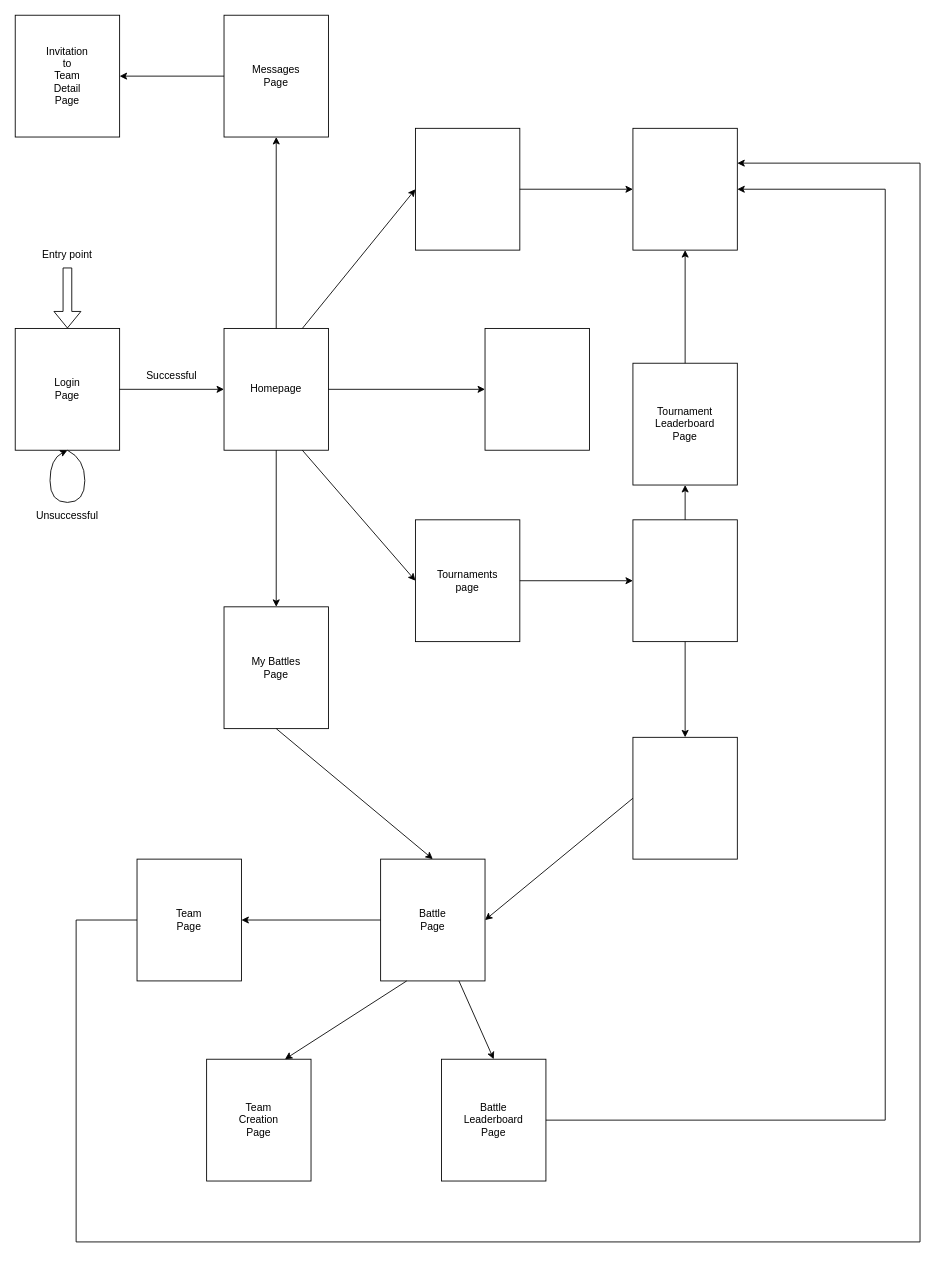
Image size: 942x1264. Some labels were removed from this diagram. Each missing label, with the centre of its shape:
Profile Page: (536,389)
Tournament Battles Page: (684,797)
Tournament page: (684,580)
User Profile Page: (684,188)
Users Page: (467,188)
